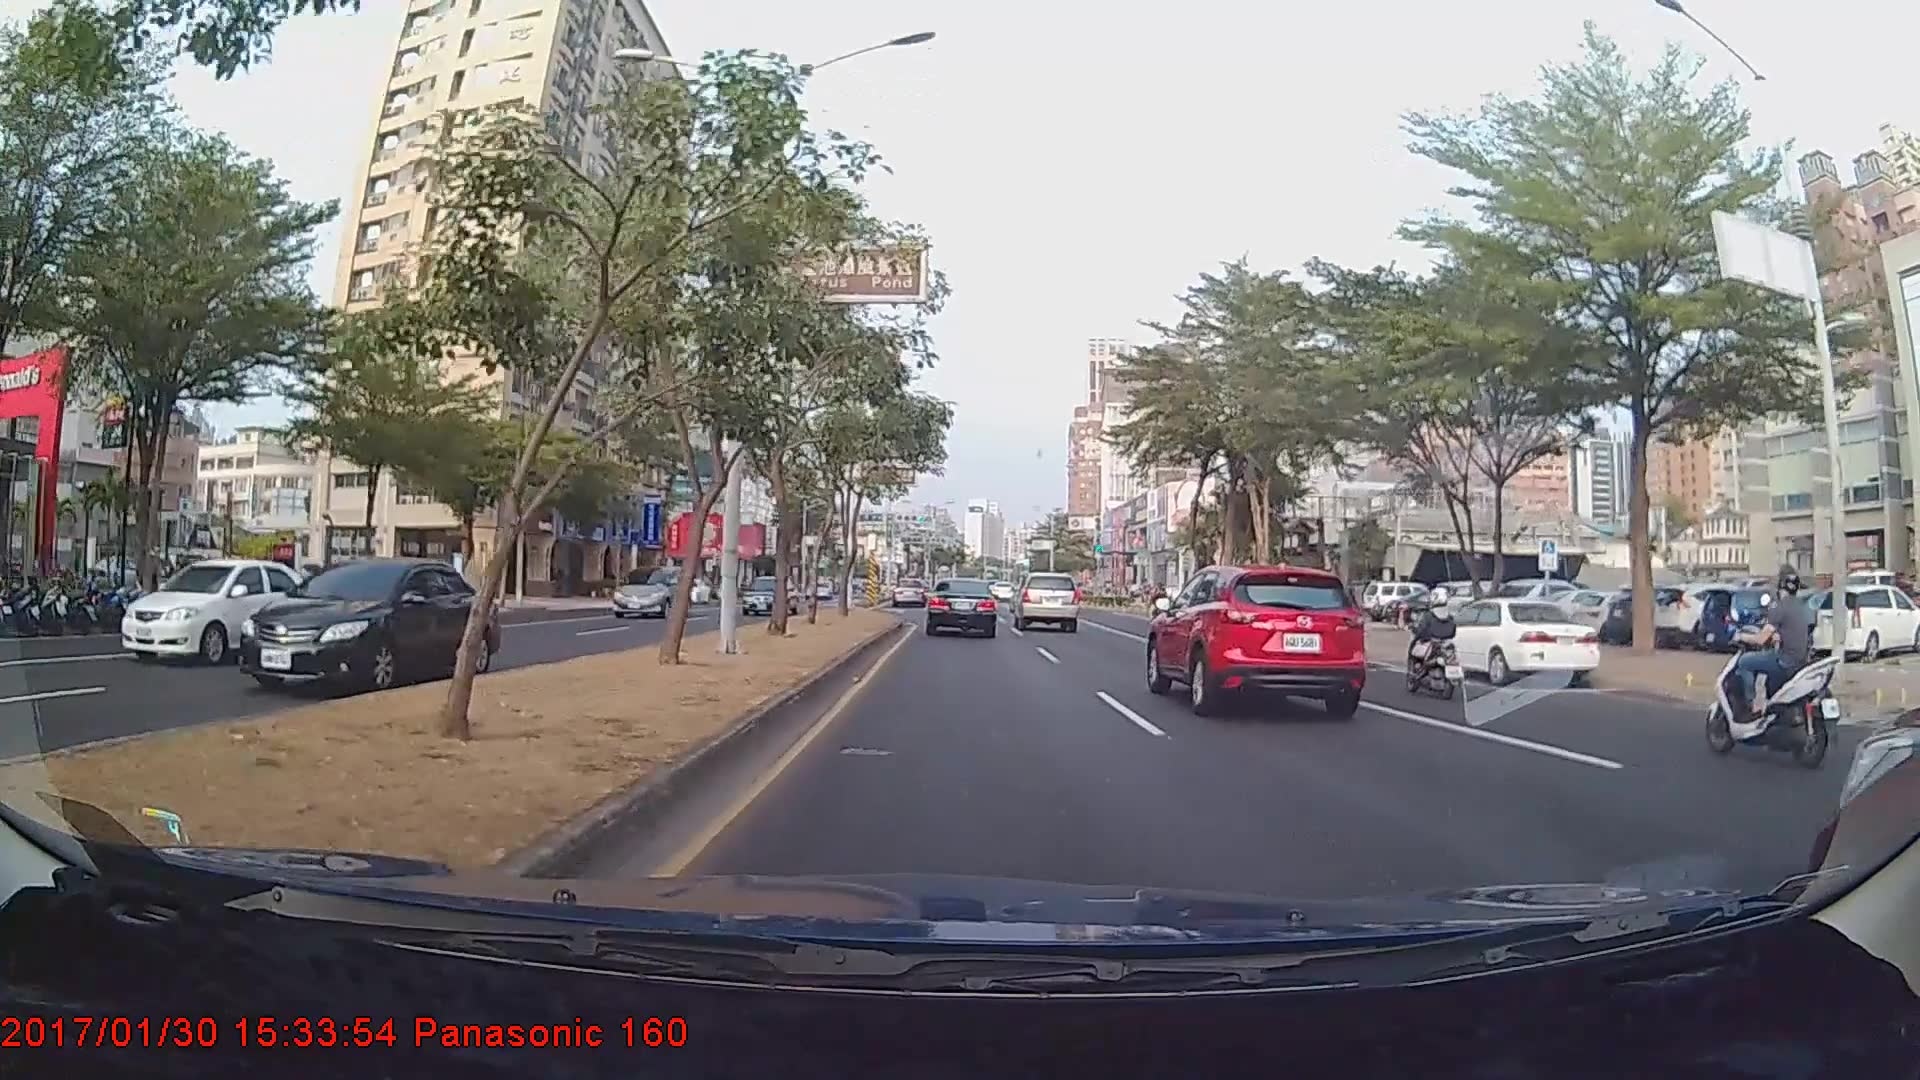rider: (1707, 555, 1836, 765), (1393, 585, 1471, 704)
vehicle: (237, 557, 499, 695), (1144, 565, 1365, 722), (118, 558, 334, 667), (1417, 596, 1601, 686), (1808, 583, 1913, 665), (924, 575, 998, 637), (609, 564, 692, 619), (1011, 569, 1080, 632), (739, 574, 800, 615), (892, 576, 924, 605)
